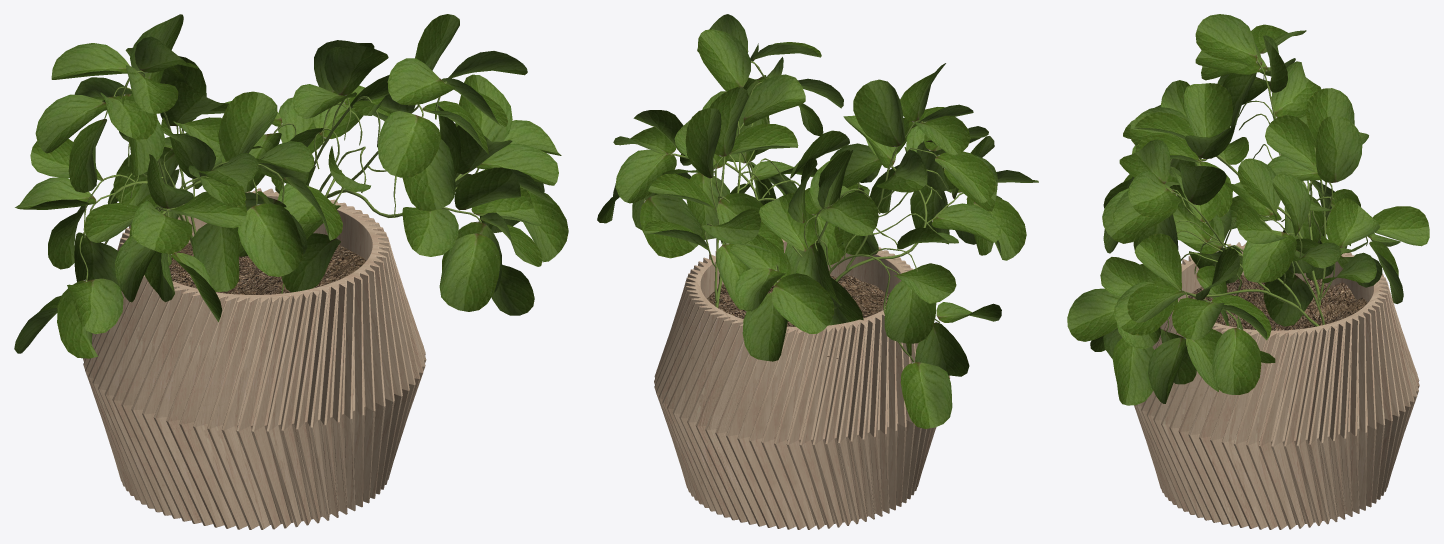
File: table_plant.glb
3 renders of one model, left to right at view 1: azimuth 30°, elevation 25°; view 2: azimuth 150°, elevation 25°; view 3: azimuth 270°, elevation 25°, orthographic. The views are drawn at different scales.
Parts seen in each view (by area): view 1: SM_Decor_6; view 2: SM_Decor_6; view 3: SM_Decor_6.
Part boxes in pixels (x1=…): SM_Decor_6: x1=14, y1=14, x2=568, y2=529; SM_Decor_6: x1=597, y1=14, x2=1038, y2=529; SM_Decor_6: x1=1067, y1=14, x2=1429, y2=529.
Bounding box in the file's own units: 0.3638 × 0.3603 × 0.2855.
3 materials, 3 textured.
